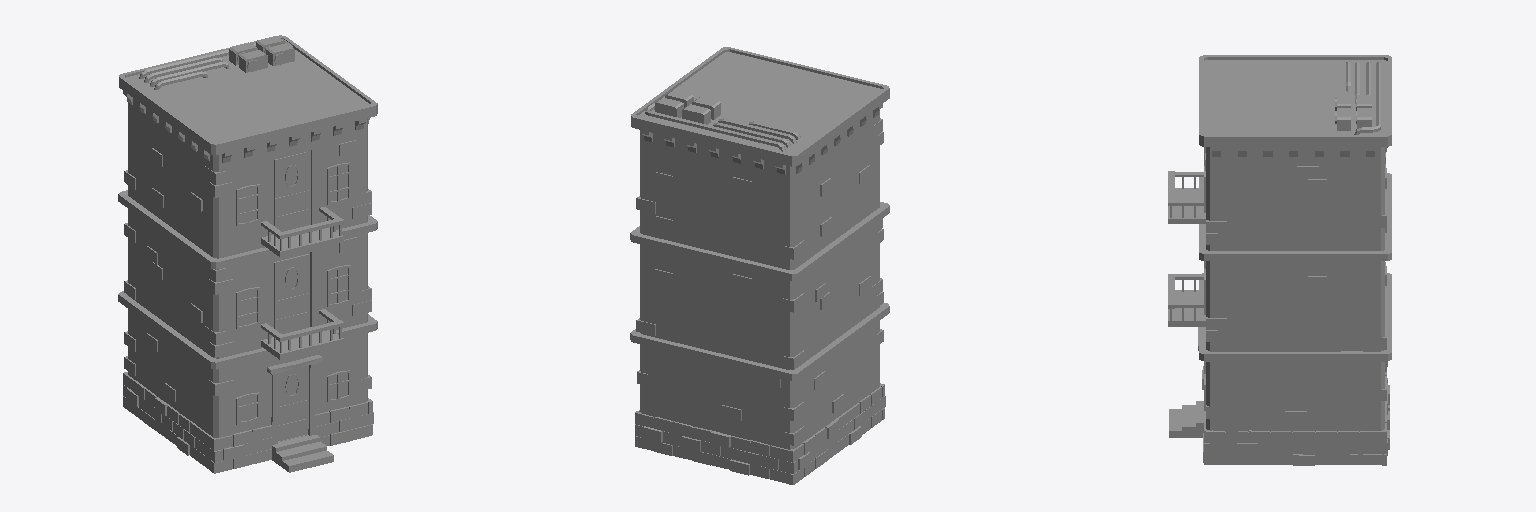
Rendered from 3Story_Balcony.obj.
3 renders of one model, left to right at view 1: azimuth 30°, elevation 25°; view 2: azimuth 150°, elevation 25°; view 3: azimuth 270°, elevation 25°, orthographic.
Parts seen in each view (by area): view 1: 3Story_Balcony_Cube.009; view 2: 3Story_Balcony_Cube.009; view 3: 3Story_Balcony_Cube.009.
Boxes of the visible parts, x1,y1,x2,y2 form: 3Story_Balcony_Cube.009: [118, 35, 377, 473]; 3Story_Balcony_Cube.009: [630, 47, 889, 484]; 3Story_Balcony_Cube.009: [1168, 55, 1391, 465].
Bounding box in the file's own units: 2.16 × 4.21 × 2.51.